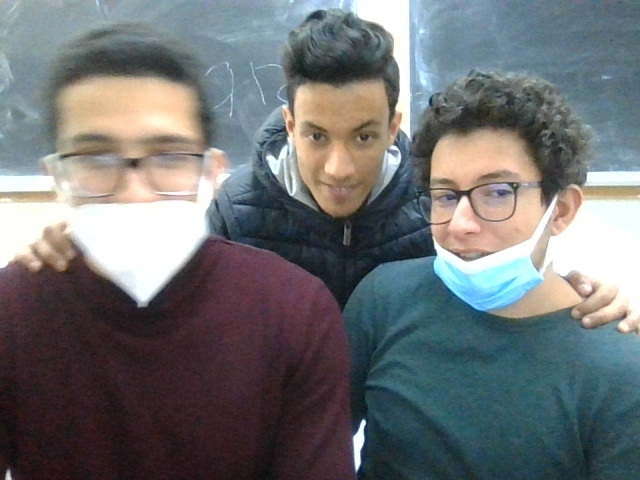mask_weared_incorrect: (40, 34, 243, 302), (417, 79, 586, 315)
without_mask: (278, 13, 407, 214)
